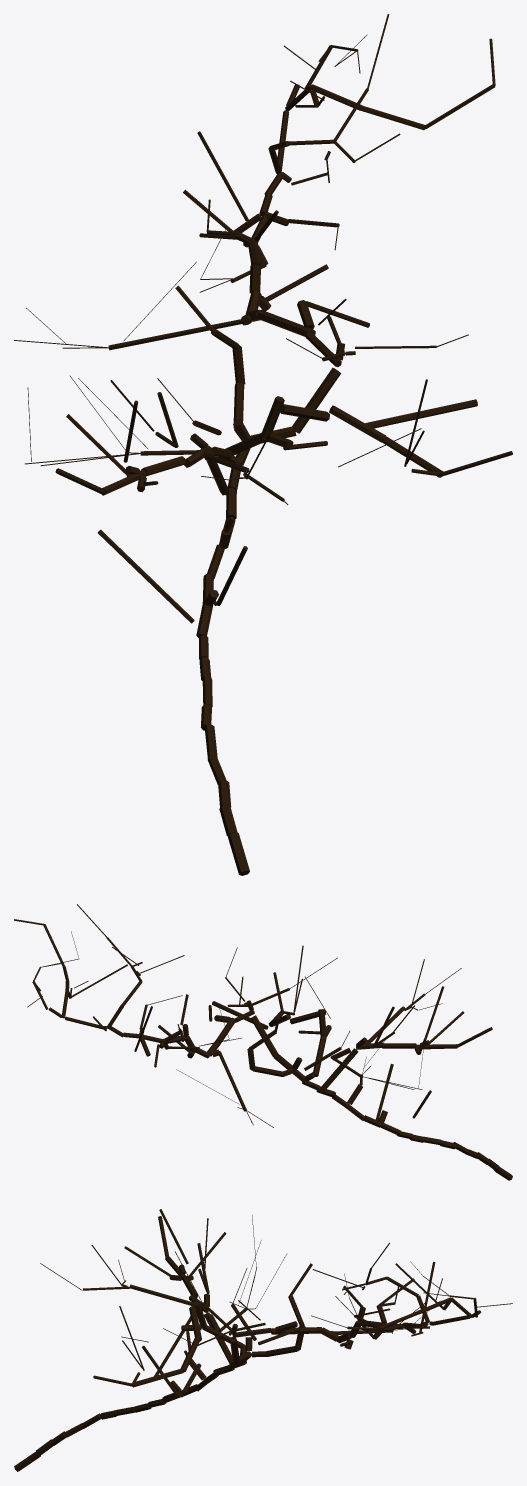
Rendered from 2022_tree_538_no_leaf.obj.
3 renders of one model, top to bottom at view 1: azimuth 30°, elevation 25°; view 2: azimuth 150°, elevation 25°; view 3: azimuth 270°, elevation 25°, orthographic. The views are drawn at different scales.
Parts seen in each view (by area): view 1: TrunkAndBranches; view 2: TrunkAndBranches; view 3: TrunkAndBranches.
Boxes of the visible parts, x1=… form: TrunkAndBranches: x1=14, y1=14, x2=512, y2=875; TrunkAndBranches: x1=14, y1=904, x2=512, y2=1180; TrunkAndBranches: x1=14, y1=1209, x2=512, y2=1471.
Bounding box in the file's own units: 3.49 × 3.03 × 3.74.
